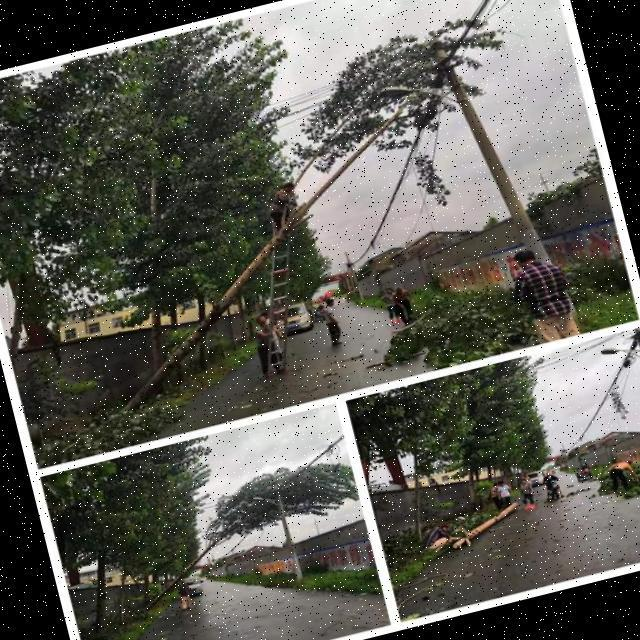fallen_object: (12, 57, 521, 434), (98, 448, 374, 624), (446, 501, 529, 554)
